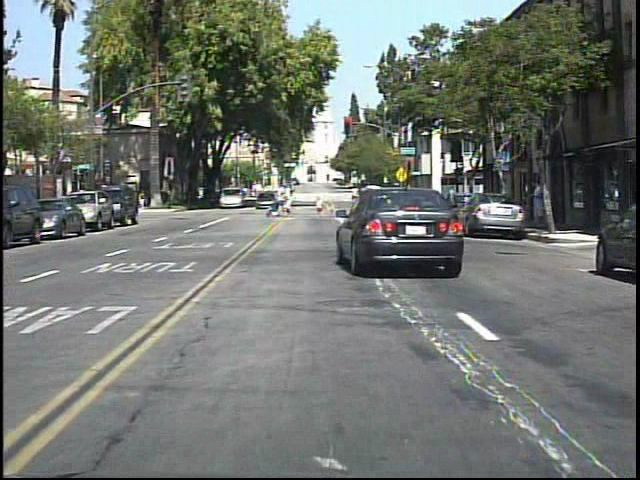person: (527, 176, 544, 231), (283, 183, 299, 221), (139, 189, 148, 213)
